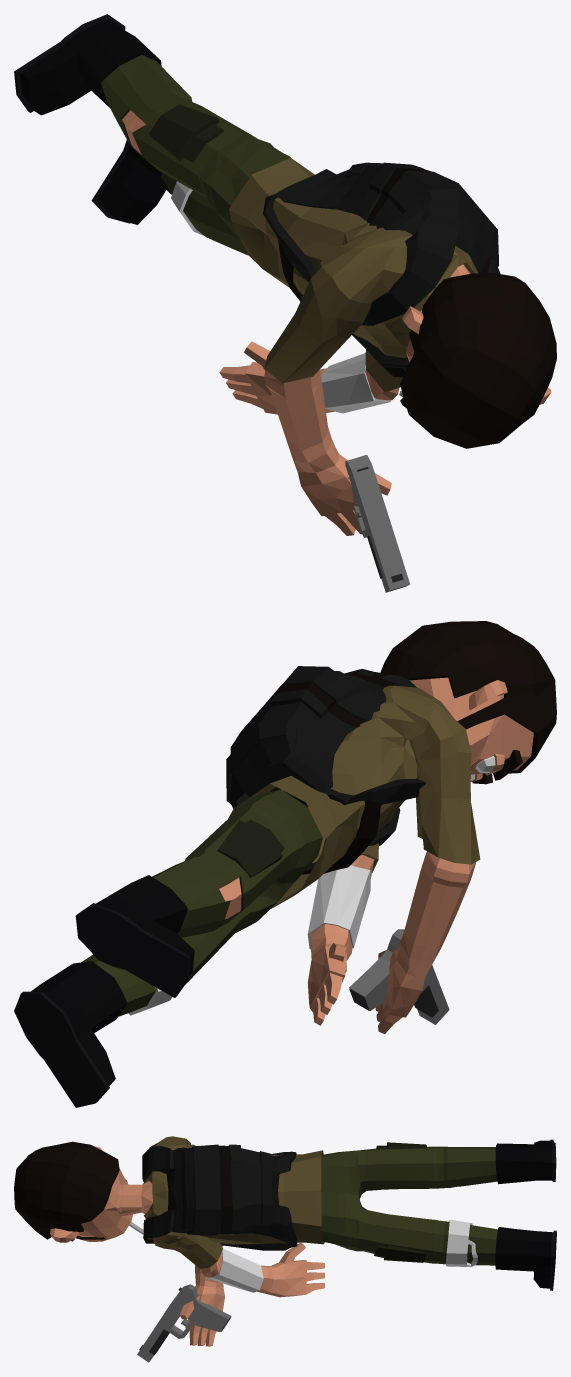
File: frame_0022.obj
The picture shows the model from 3 angles, top to bottom: view 1: azimuth 30°, elevation 25°; view 2: azimuth 150°, elevation 25°; view 3: azimuth 270°, elevation 25°; orthographic projection. The views are drawn at different scales.
Visible parts, largest first — view 1: Body, Gun; view 2: Body, Gun; view 3: Body, Gun.
Part boxes in pixels (x1,y1,x2,y2): Body: (14,14,556,535); Gun: (345,455,410,592); Body: (14,621,556,1107); Gun: (349,929,449,1024); Body: (14,1136,556,1346); Gun: (137,1284,231,1362).
Bounding box in the file's own units: 1.29 × 2 × 4.15.
